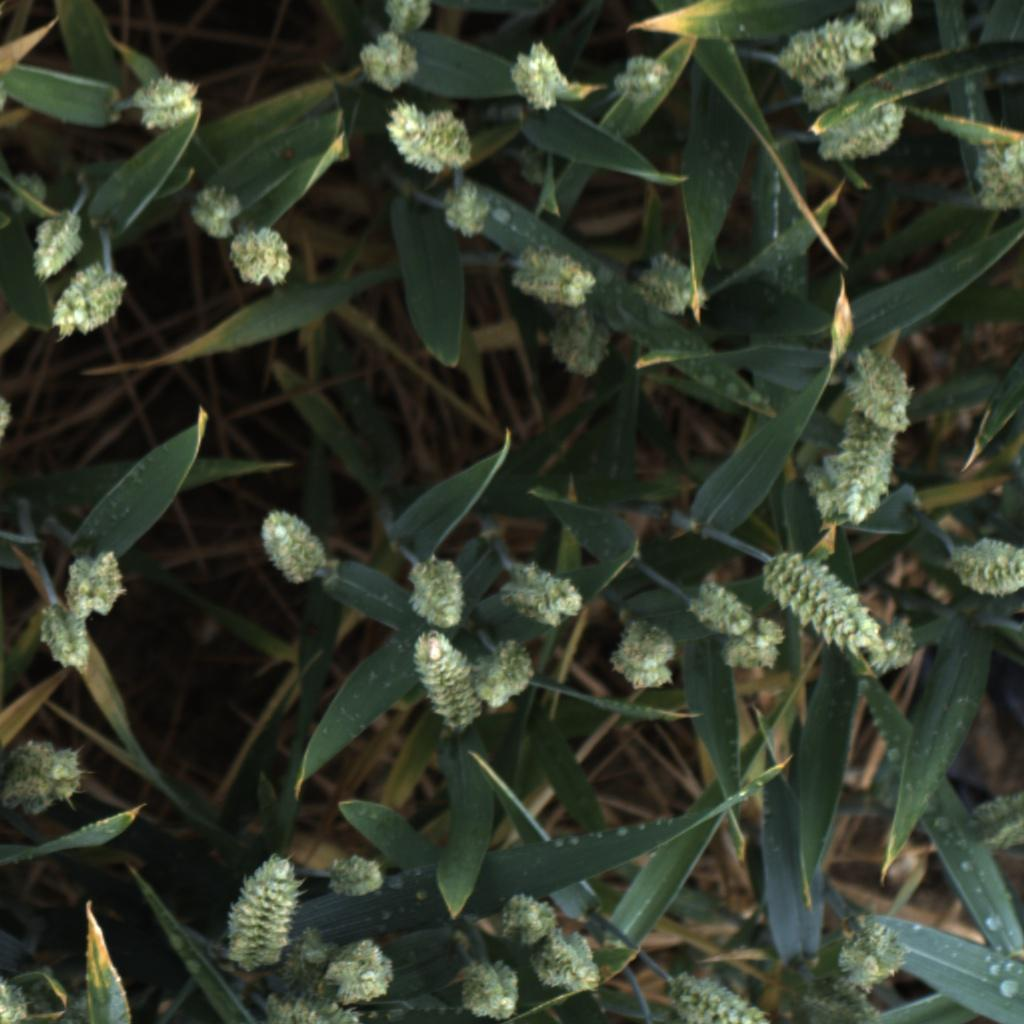0-0: (762, 545, 883, 659), (823, 400, 905, 536), (226, 849, 300, 974), (775, 11, 878, 88), (829, 901, 913, 993), (388, 95, 478, 178), (406, 629, 479, 731), (274, 919, 350, 1011), (855, 604, 941, 685), (840, 345, 919, 433), (50, 259, 133, 342), (811, 90, 908, 161), (0, 738, 86, 817), (504, 240, 598, 312), (497, 558, 589, 631), (665, 967, 777, 1024), (631, 244, 715, 320), (254, 509, 330, 586), (504, 34, 572, 119), (402, 551, 472, 631), (529, 928, 603, 1002), (950, 530, 1024, 603), (963, 132, 1024, 220), (29, 599, 100, 674), (609, 620, 680, 694), (325, 935, 399, 1005), (435, 166, 501, 241), (478, 633, 539, 714), (257, 983, 377, 1024), (352, 27, 425, 93), (134, 67, 204, 135), (224, 224, 295, 291), (544, 312, 616, 378), (456, 958, 527, 1024), (25, 207, 86, 282), (66, 550, 130, 620), (718, 614, 782, 678), (612, 47, 677, 110), (496, 885, 560, 946), (684, 578, 752, 634), (188, 178, 245, 242), (970, 784, 1024, 851), (805, 981, 888, 1024), (796, 62, 857, 118), (326, 854, 390, 901), (1, 167, 55, 221), (853, 0, 922, 41), (798, 461, 841, 526), (16, 962, 61, 1024), (376, 0, 439, 39), (516, 138, 554, 187), (52, 986, 95, 1024), (0, 975, 31, 1024), (0, 392, 18, 445)
